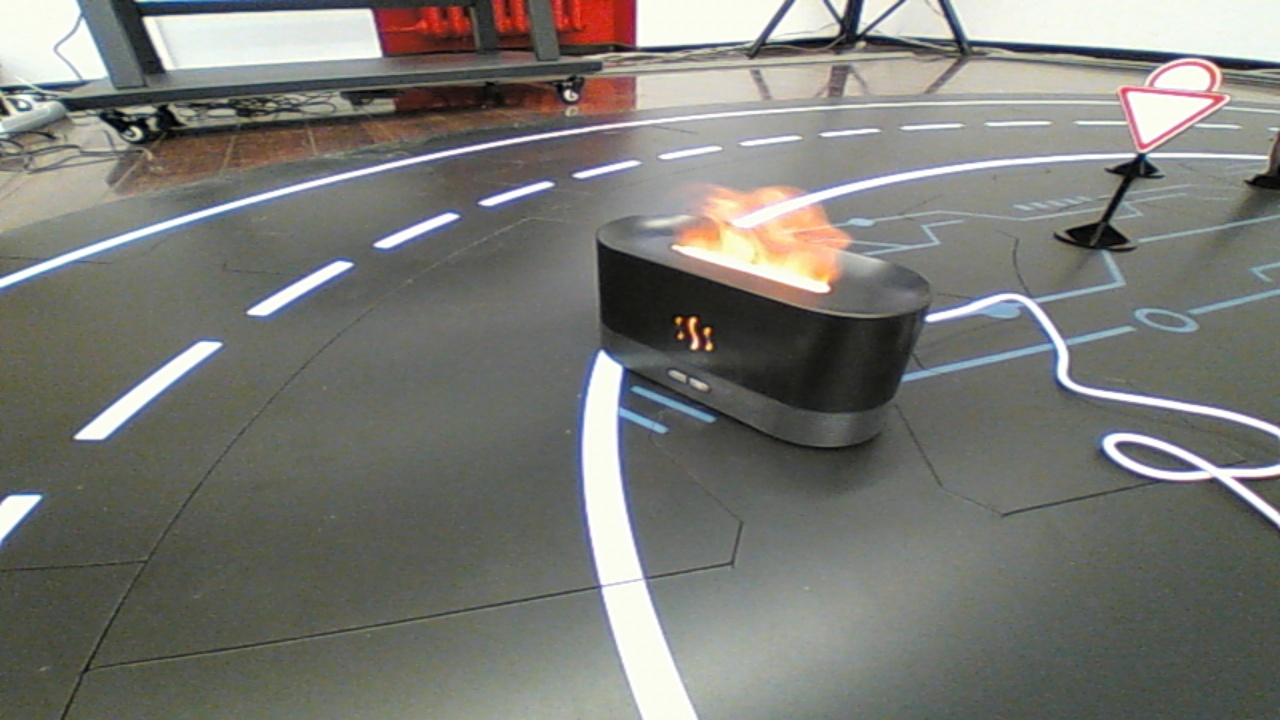Movement prohibition: (576, 196, 955, 469)
